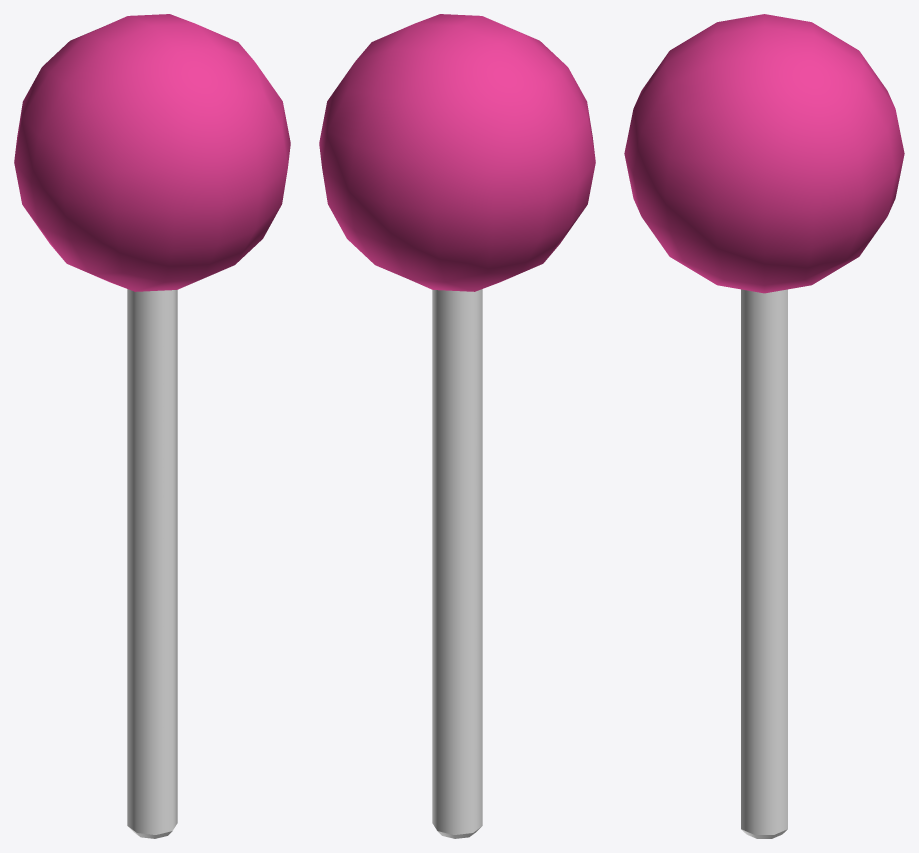
File: Candy_26.fbx
3 views of the same model, side by side, from view 1: azimuth 30°, elevation 25°; view 2: azimuth 150°, elevation 25°; view 3: azimuth 270°, elevation 25° (orthographic).
Parts seen in each view (by area): view 1: Candy_26; view 2: Candy_26; view 3: Candy_26.
Part boxes in pixels (bbox=[...]): Candy_26: bbox=[14, 14, 290, 838]; Candy_26: bbox=[319, 14, 595, 838]; Candy_26: bbox=[624, 14, 904, 838].
Size of the model in its own units: 0.8302 by 2.63 by 0.8302.
